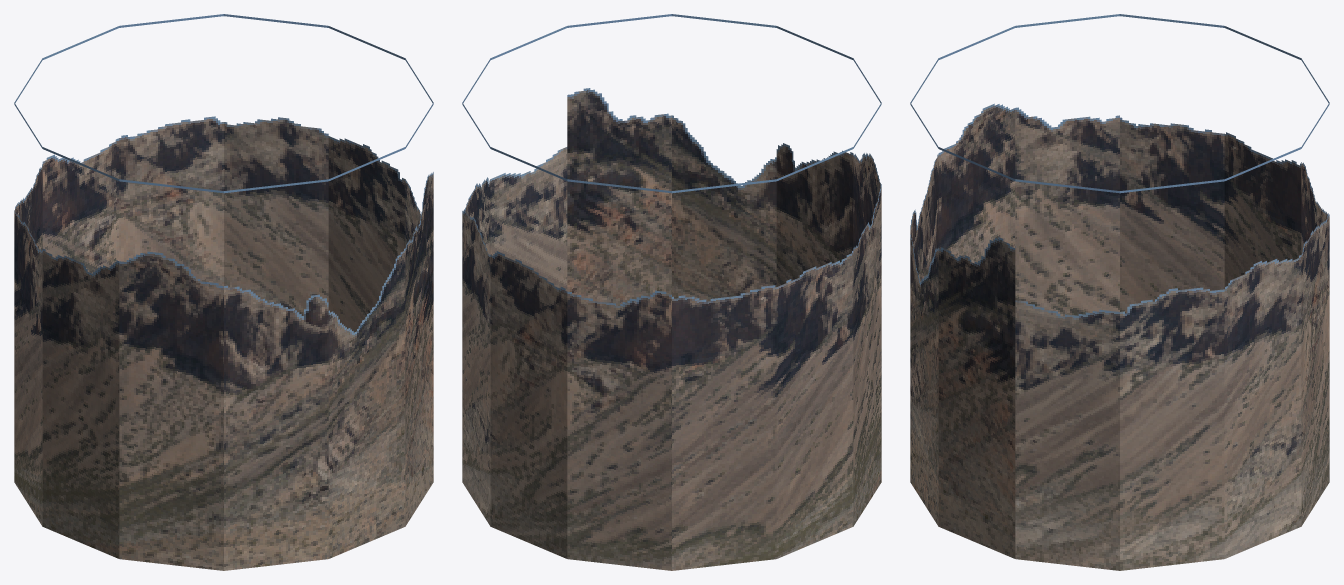
File: aridSkybox.glb
3 renders of one model, left to right at view 1: azimuth 30°, elevation 25°; view 2: azimuth 150°, elevation 25°; view 3: azimuth 270°, elevation 25°, orthographic.
Visible parts, largest first — view 1: aridSkybox; view 2: aridSkybox; view 3: aridSkybox.
Boxes of the visible parts, x1,y1,x2,y2 form: aridSkybox: (14,14,433,570); aridSkybox: (462,14,881,570); aridSkybox: (910,14,1329,570).
Bounding box in the file's own units: 2 × 2 × 2.
Materials: 1 (1 with a texture image).
